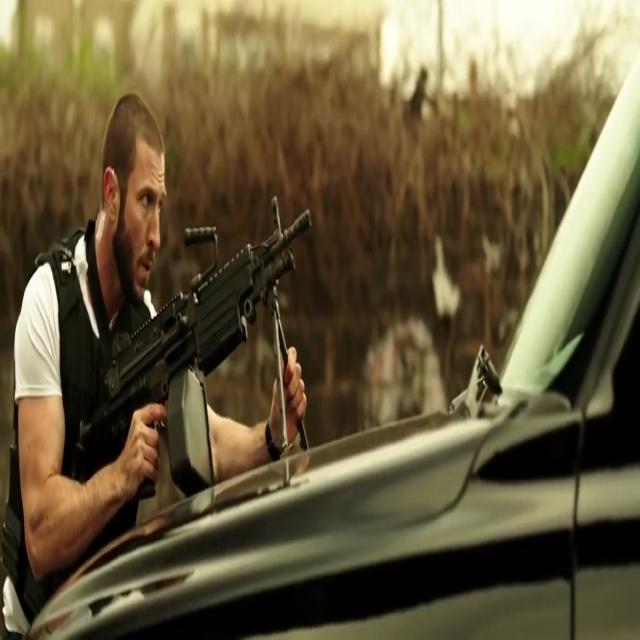Weapon: (91, 200, 333, 478)
